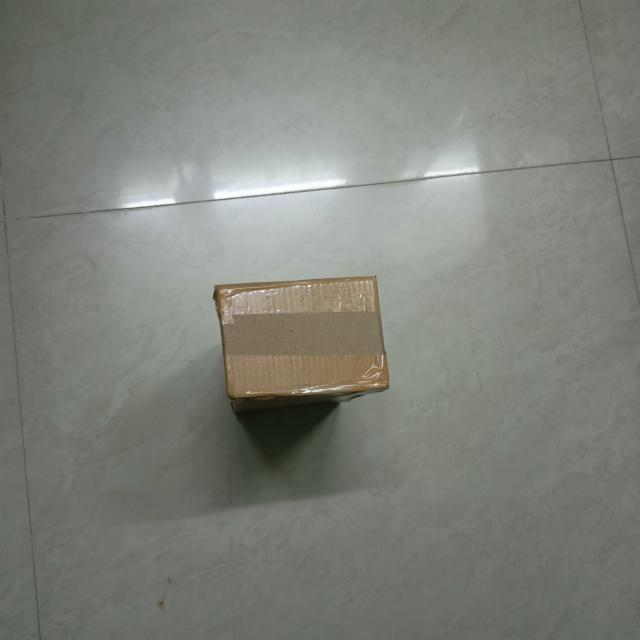box: (213, 278, 389, 396)
